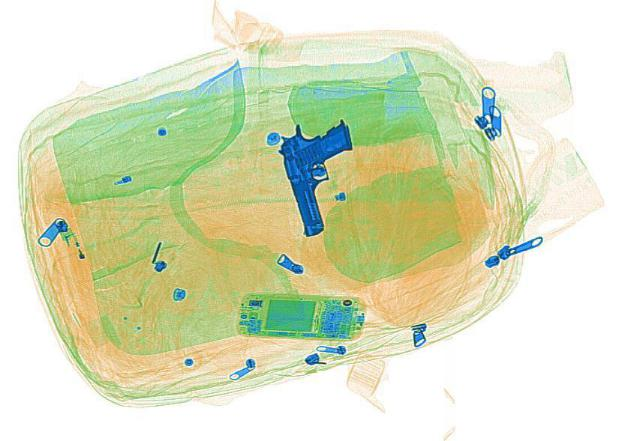Gun: (269, 120, 381, 237)
